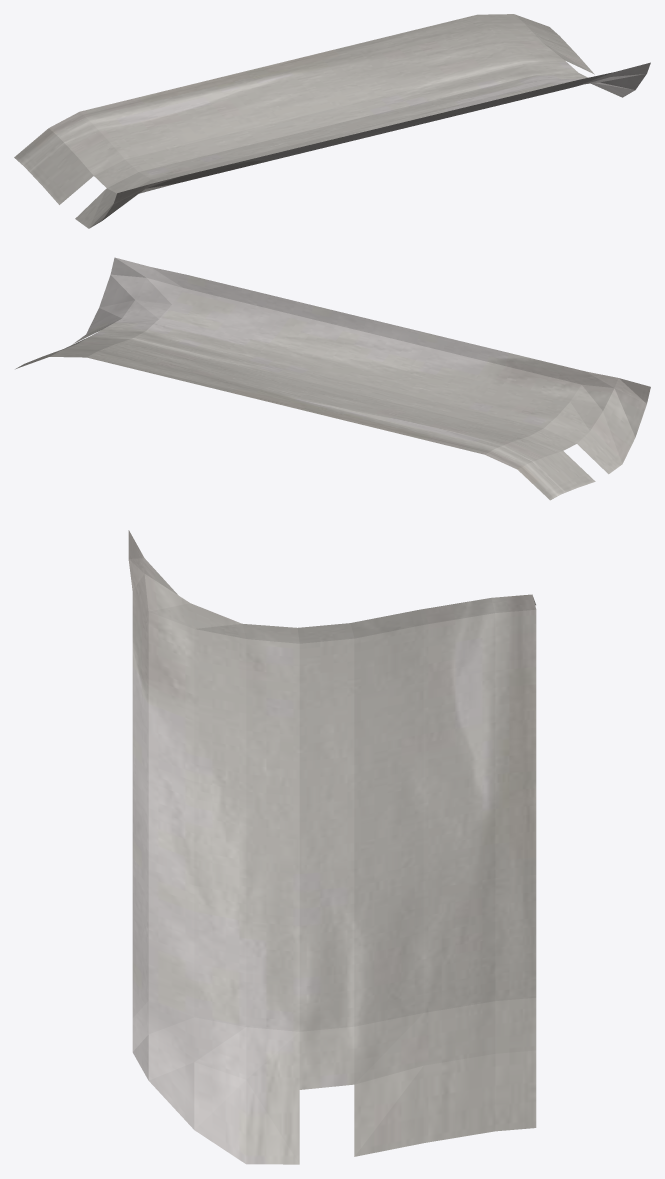
Rendered from hatch_MLI_cover1.dae.
3 views of the same model, one above another, from view 1: azimuth 30°, elevation 25°; view 2: azimuth 150°, elevation 25°; view 3: azimuth 270°, elevation 25° (orthographic). The views are drawn at different scales.
Parts seen in each view (by area): view 1: node; view 2: node; view 3: node.
Boxes of the visible parts, box(x1,y1,x2,y2) form: node: box(14, 14, 650, 228); node: box(15, 257, 650, 500); node: box(128, 530, 536, 1164).
Bounding box in the file's own units: 1.53 × 0.157 × 0.5035.
1 material, 1 textured.
